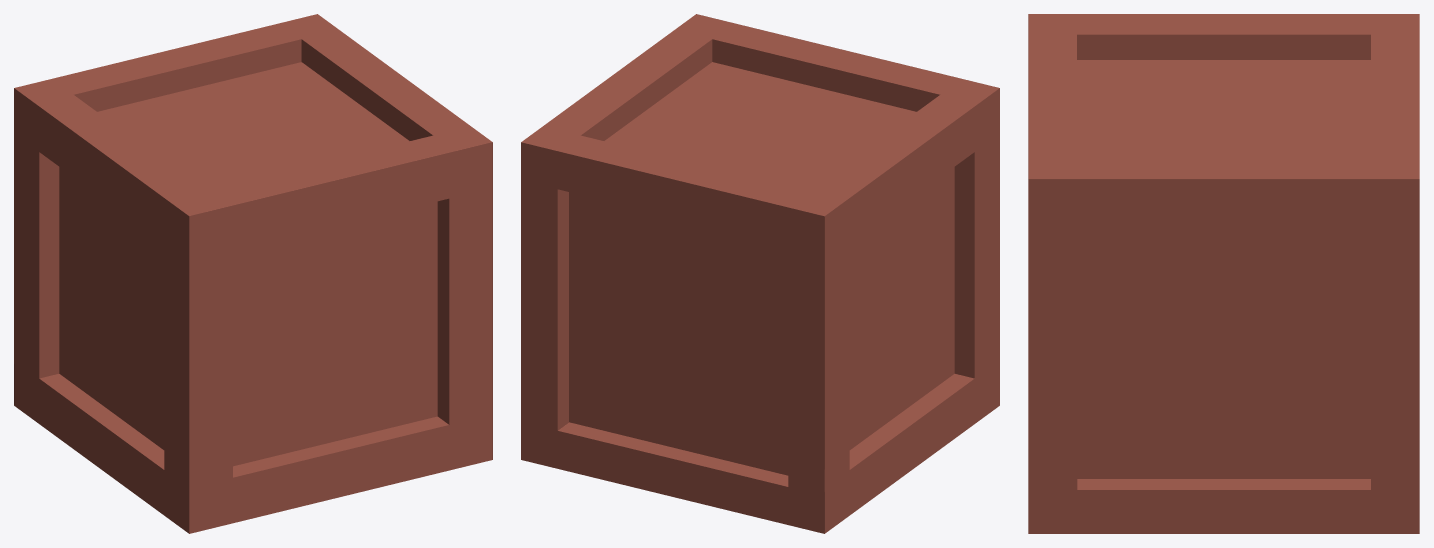
The picture shows the model from 3 angles, left to right: view 1: azimuth 30°, elevation 25°; view 2: azimuth 150°, elevation 25°; view 3: azimuth 270°, elevation 25°; orthographic projection. The views are drawn at different scales.
Visible parts, largest first — view 1: Cube; view 2: Cube; view 3: Cube.
Boxes of the visible parts, left/top/right/bottom form: Cube: left=14, top=14, right=492, bottom=533; Cube: left=521, top=14, right=999, bottom=533; Cube: left=1028, top=14, right=1419, bottom=533.
Size of the model in its own units: 0.6094 by 0.6094 by 0.6094.
Materials: 1 (1 with a texture image).
